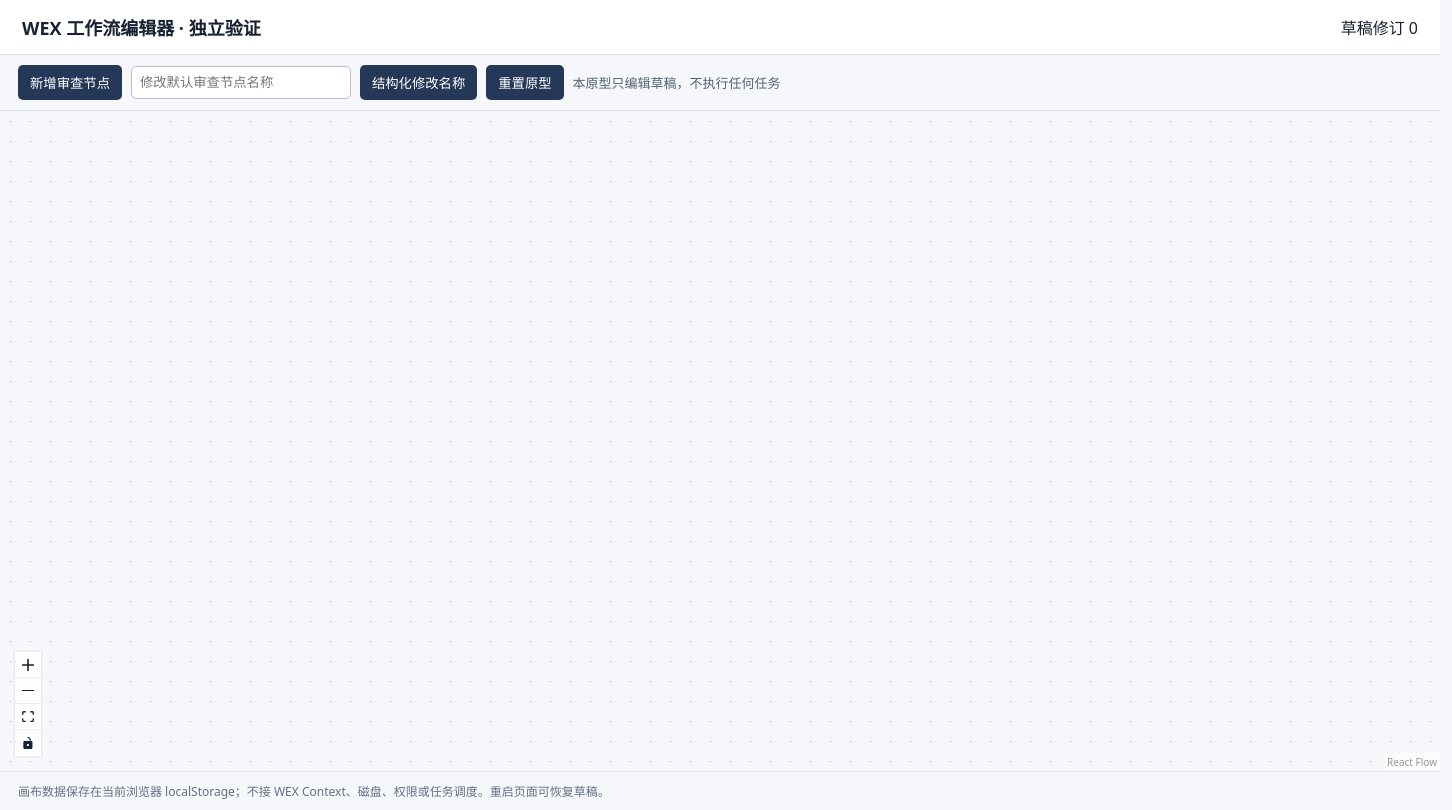
Test case: editor DOM integration › failed reset storage write keeps the current draft and subsequent edit intact
Step 1. Click the button "新增审查节点" → x=70, y=82, box x1=18 y1=65 x2=122 y2=100
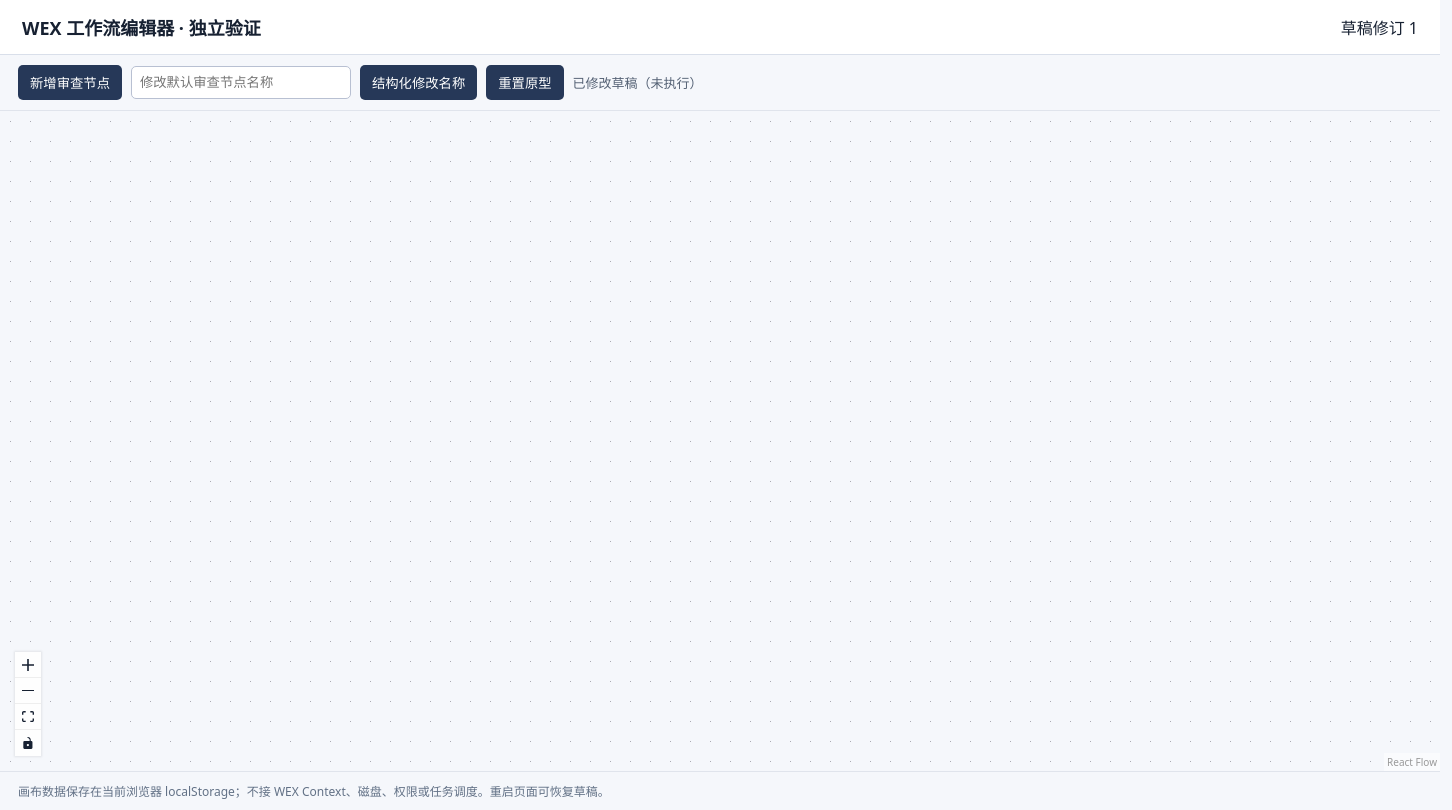
Step 2. Click the button "重置原型" → x=525, y=82, box x1=486 y1=65 x2=564 y2=100
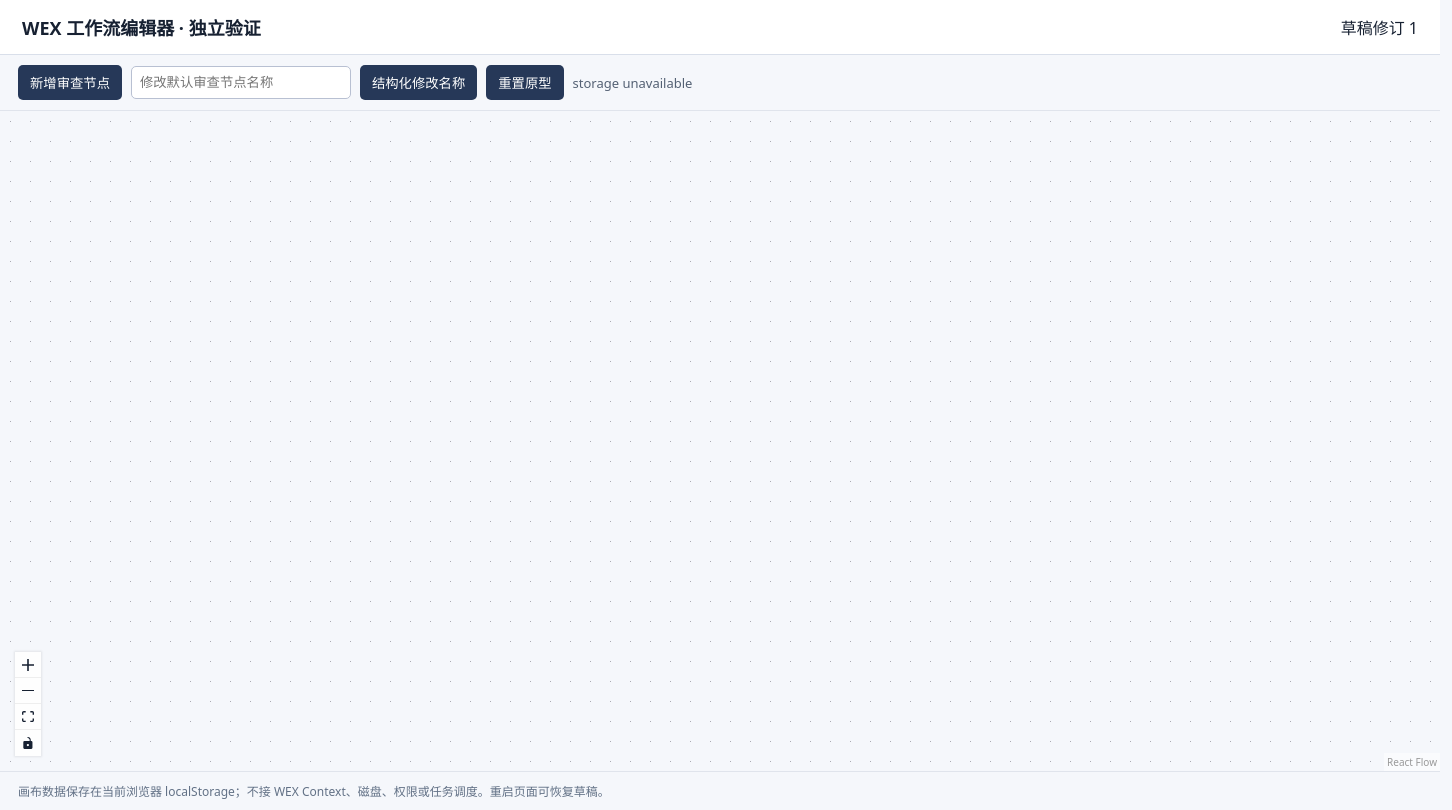
Result: the text "草稿修订 1" is shown at x1=1341 y1=15 x2=1418 y2=39
Result: the message reads "storage unavailable" at x1=573 y1=74 x2=692 y2=92
Step 3. Click the button "新增审查节点" → x=70, y=82, box x1=18 y1=65 x2=122 y2=100
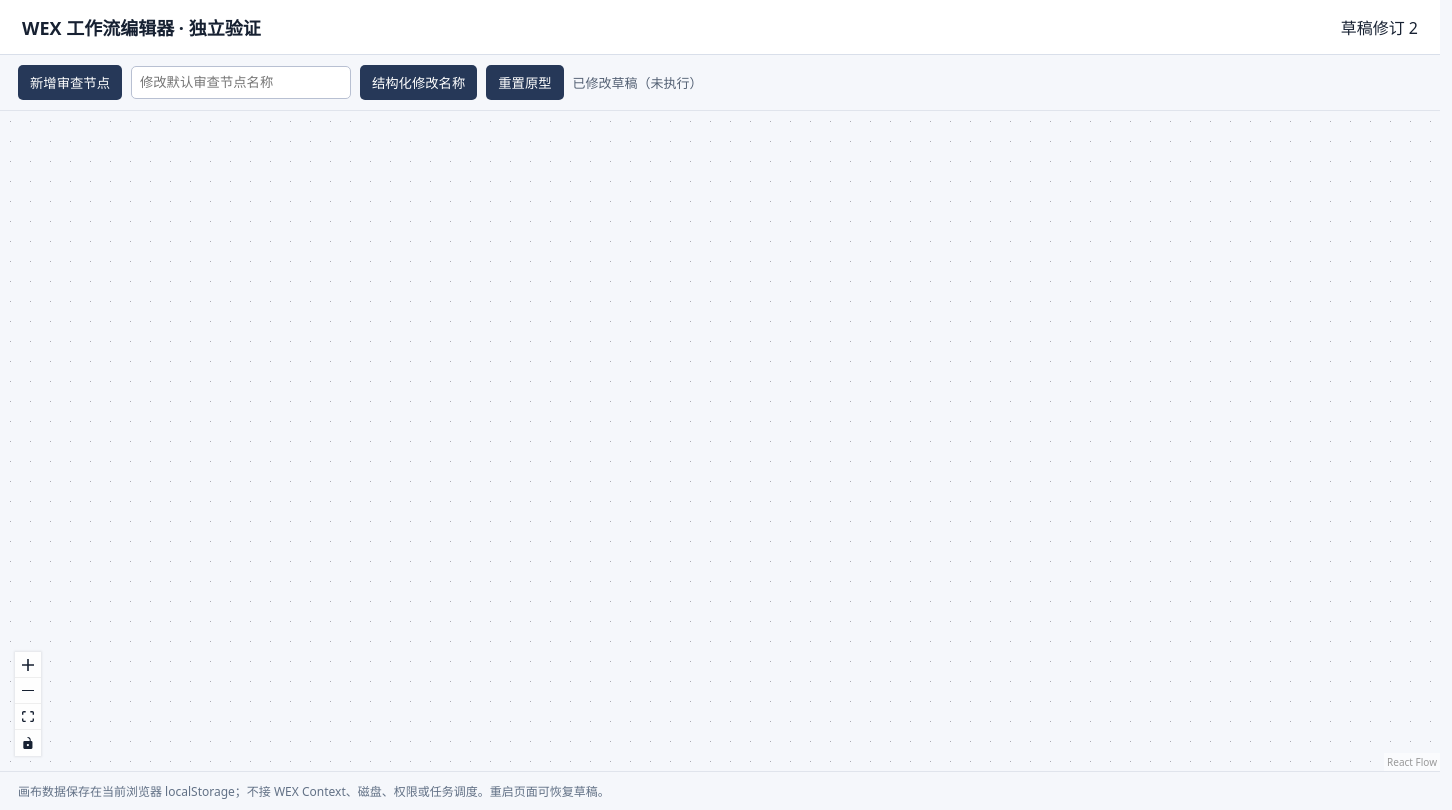
Result: the text "草稿修订 2" is shown at x1=1341 y1=15 x2=1418 y2=39
